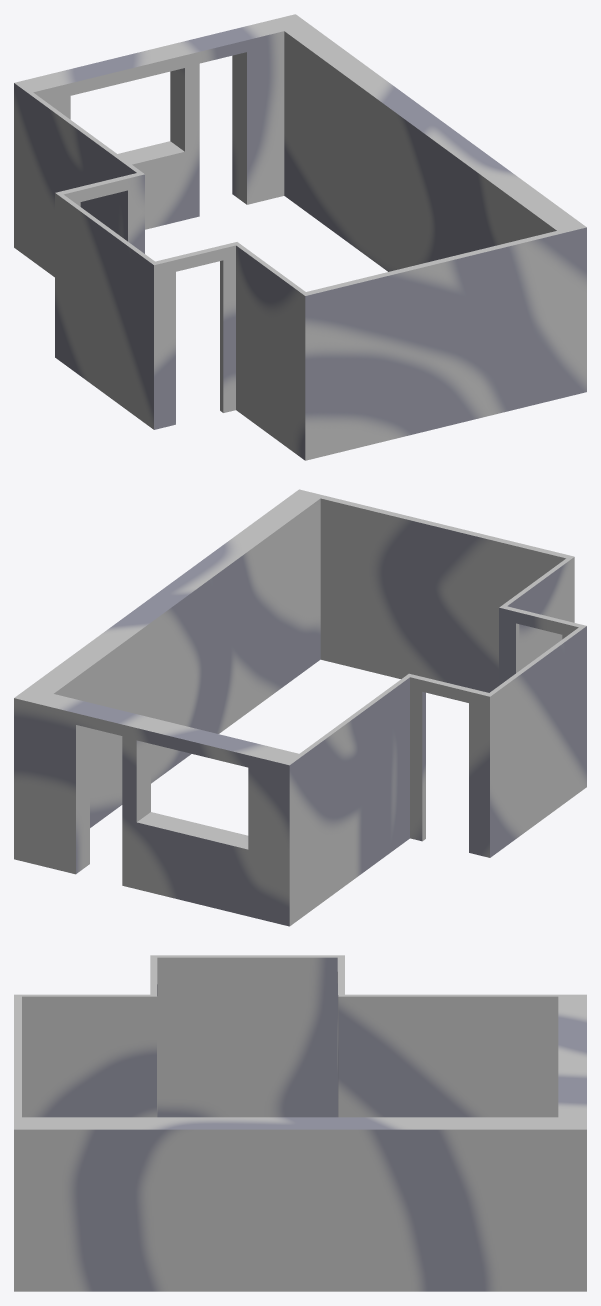
The model's file is room_livingroom (2).fbx.
The picture shows the model from 3 angles, top to bottom: view 1: azimuth 30°, elevation 25°; view 2: azimuth 150°, elevation 25°; view 3: azimuth 270°, elevation 25°; orthographic projection. The views are drawn at different scales.
Parts seen in each view (by area): view 1: room_livingroom.001; view 2: room_livingroom.001; view 3: room_livingroom.001.
Part boxes in pixels (<box>): room_livingroom.001: <box>14,14,586,460</box>; room_livingroom.001: <box>14,489,586,926</box>; room_livingroom.001: <box>14,955,586,1291</box>.
Bounding box in the file's own units: 8.08 × 3.5 × 11.22.
Materials: 1 (1 with a texture image).
